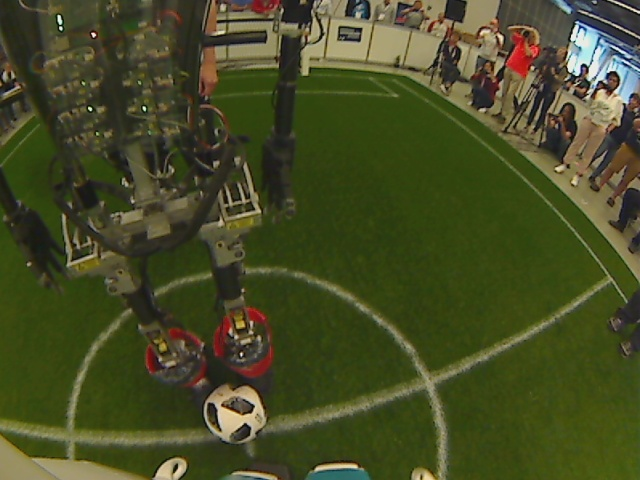ball: (199, 378, 271, 447)
